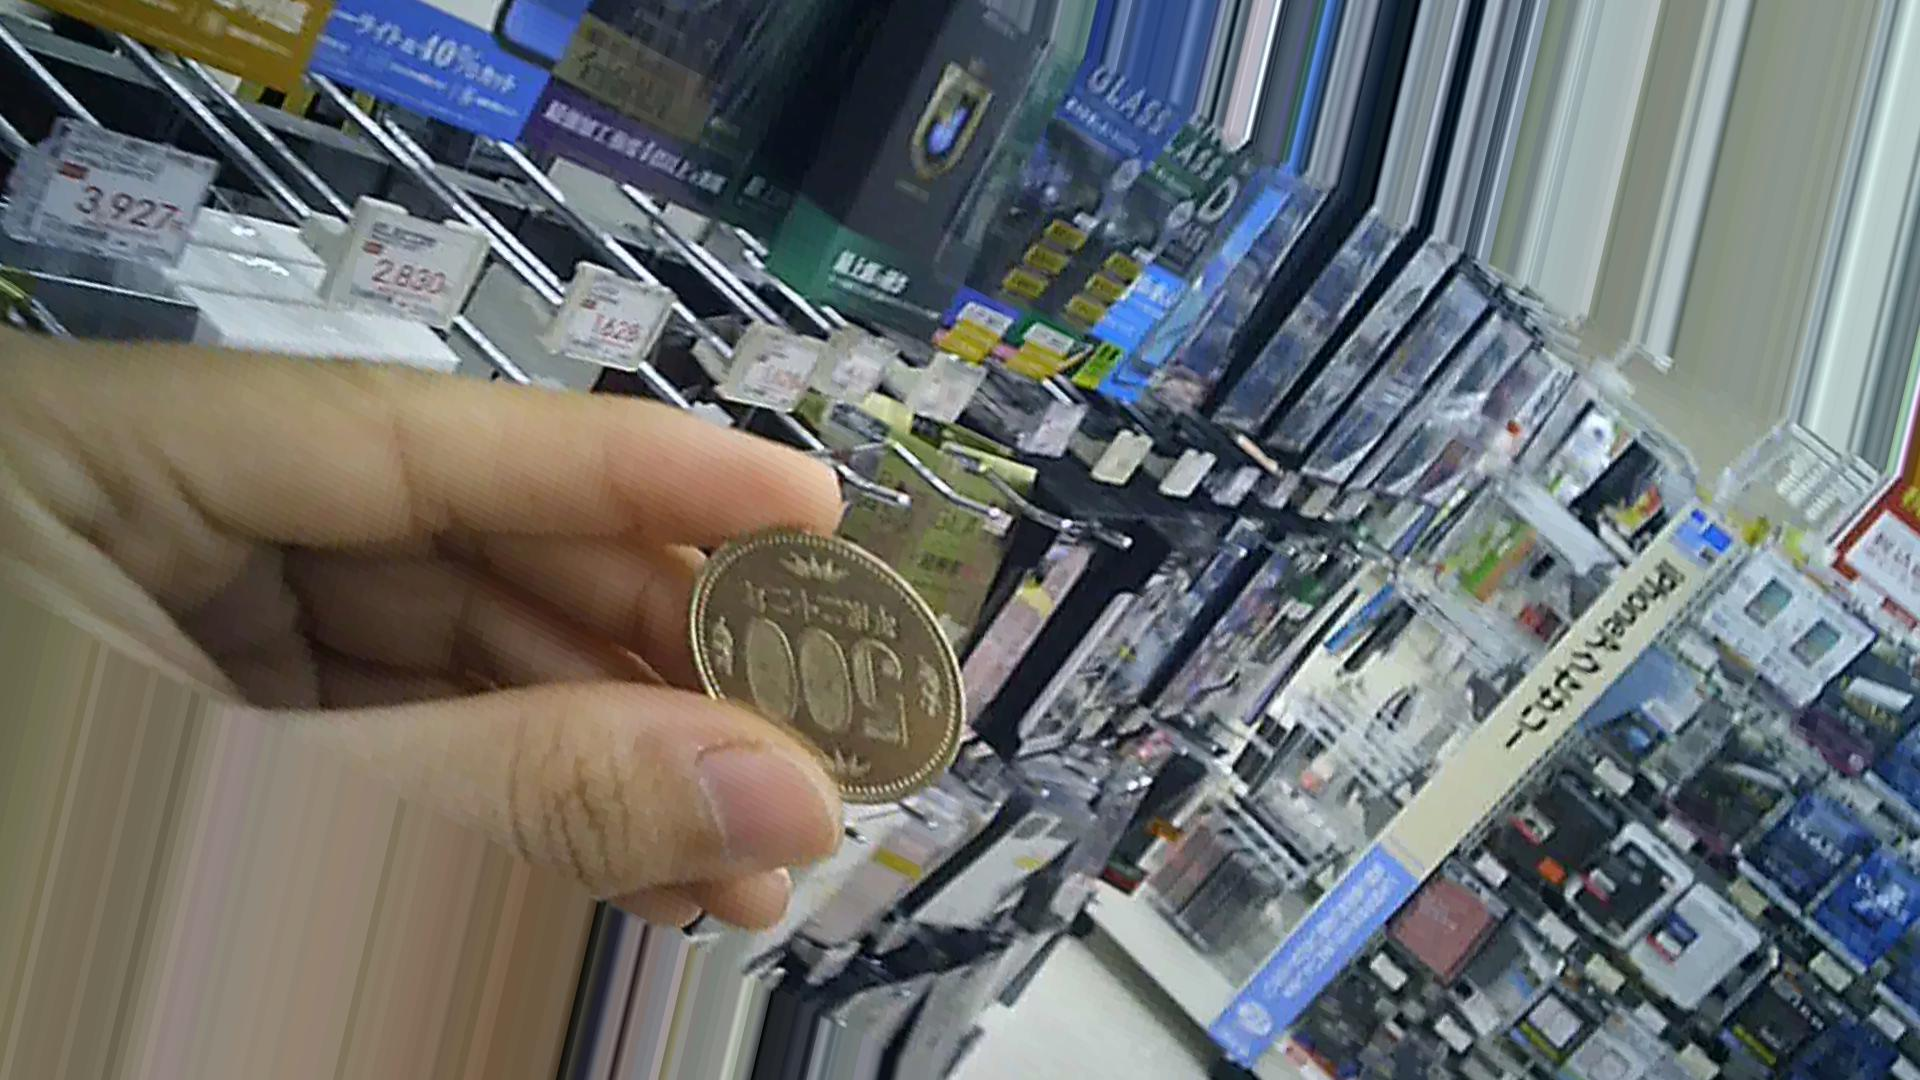500 Yen: (671, 521, 971, 812)
